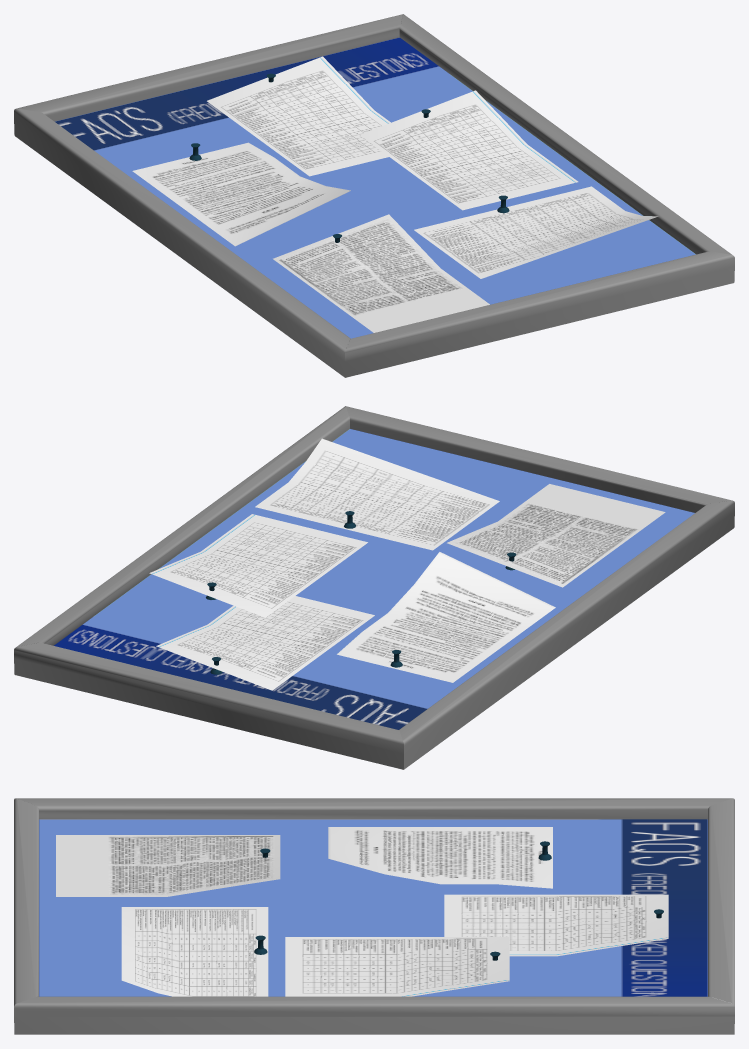
Rendered from Poster05_3.FBX.
3 renders of one model, top to bottom at view 1: azimuth 30°, elevation 25°; view 2: azimuth 150°, elevation 25°; view 3: azimuth 270°, elevation 25°, orthographic. The views are drawn at different scales.
Parts seen in each view (by area): view 1: Poster05_3; view 2: Poster05_3; view 3: Poster05_3.
Boxes of the visible parts, left/top/right/bottom form: Poster05_3: left=14, top=14, right=734, bottom=377; Poster05_3: left=14, top=406, right=734, bottom=769; Poster05_3: left=14, top=798, right=734, bottom=1034.
Size of the model in its own units: 140 by 15.46 by 206.
